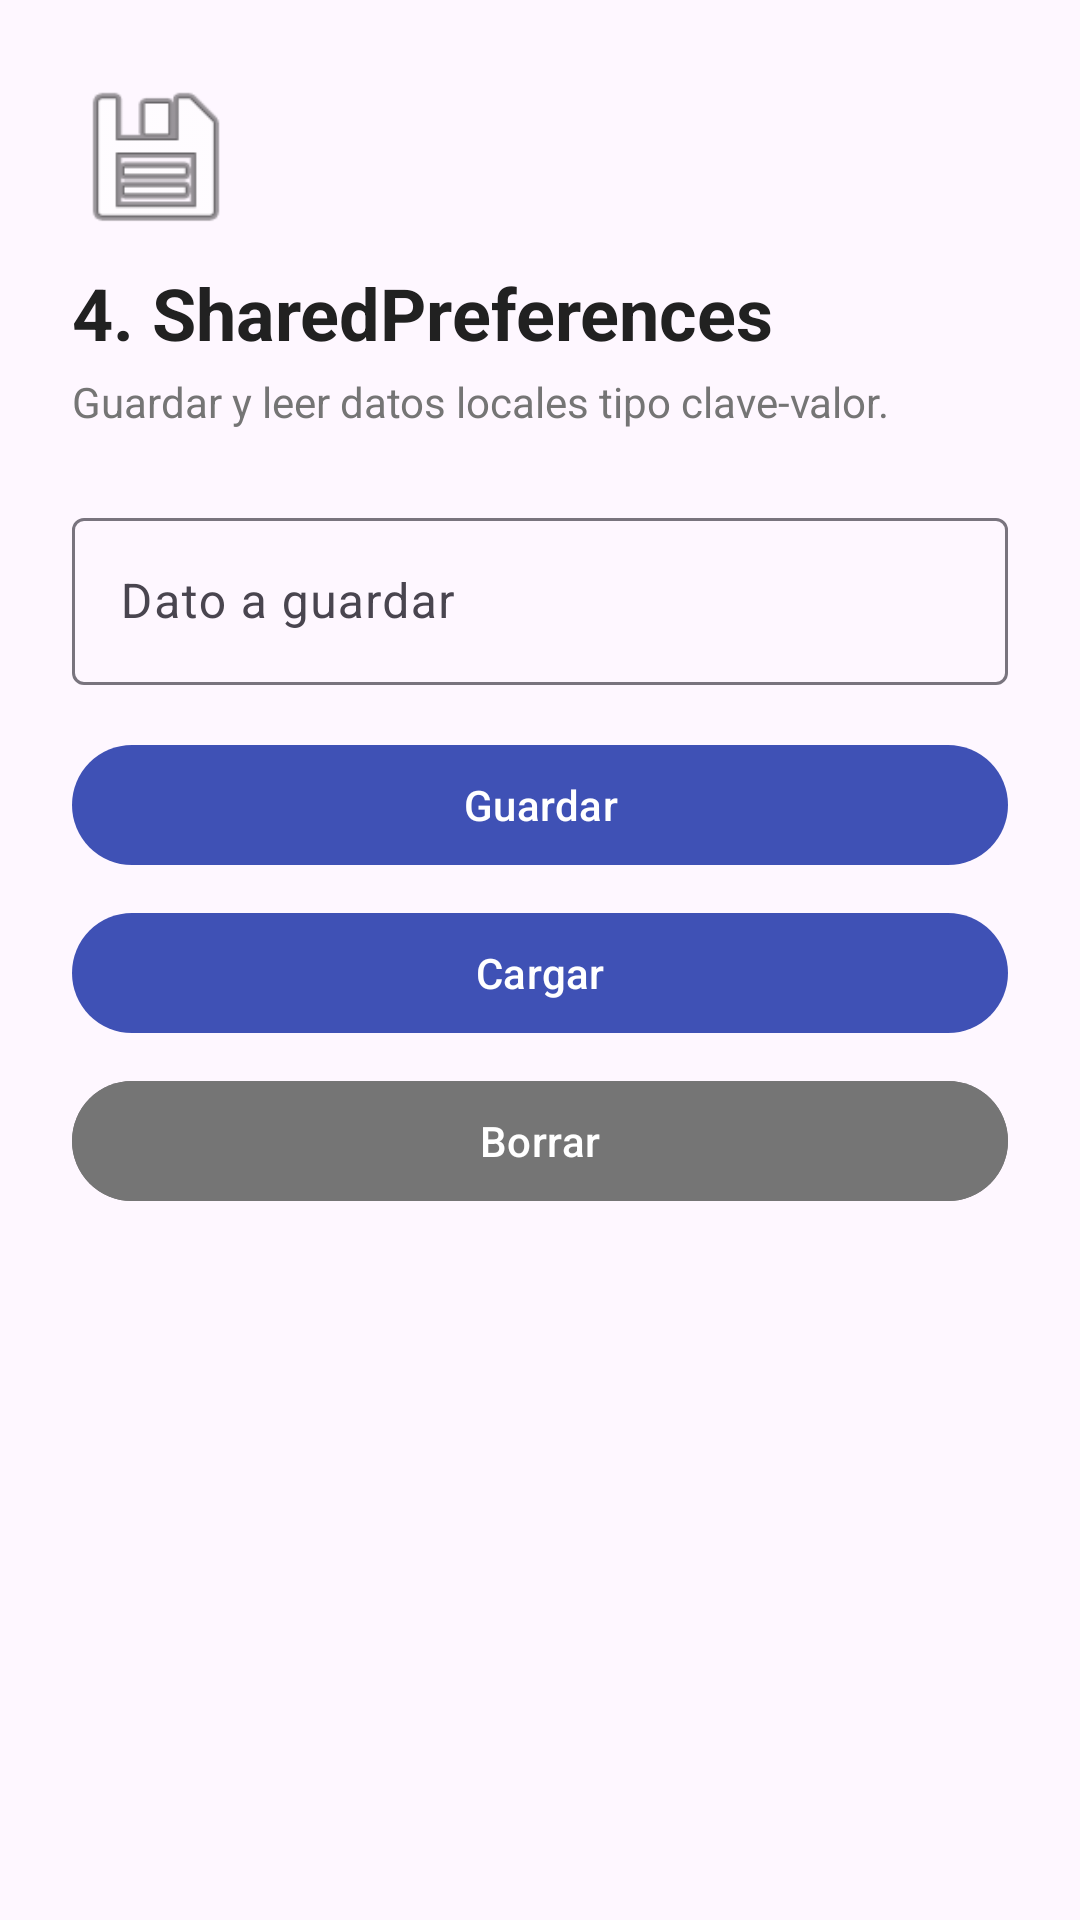

Point at icon controls on the screen. Image size 1080×1920, points as point (x, y).
save: point (156, 157)
